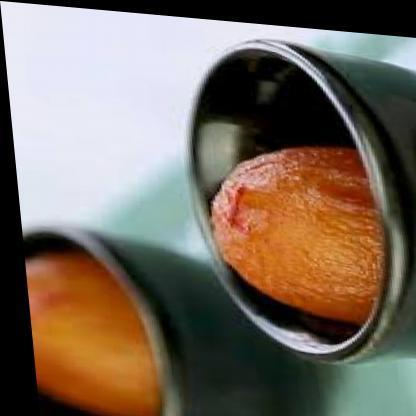gulab_jamun: (202, 132, 386, 319), (19, 247, 156, 416)
